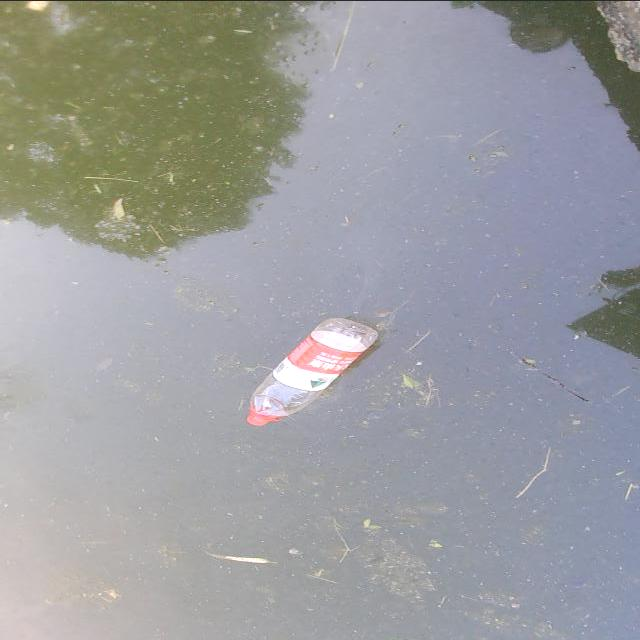bottle: (240, 302, 386, 432)
